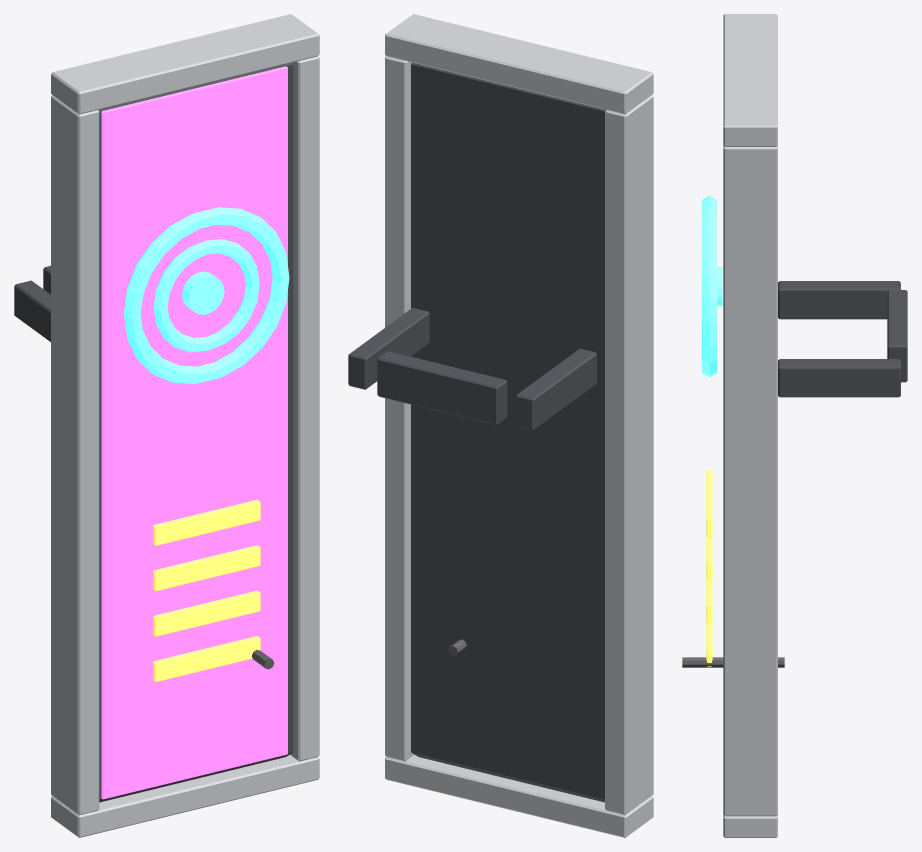
3 renders of one model, left to right at view 1: azimuth 30°, elevation 25°; view 2: azimuth 150°, elevation 25°; view 3: azimuth 270°, elevation 25°, orthographic. The views are drawn at different scales.
Visible parts, largest first — view 1: neon-sign-frame-tall; view 2: neon-sign-frame-tall; view 3: neon-sign-frame-tall.
Boxes of the visible parts, x1,y1,x2,y2 form: neon-sign-frame-tall: [14, 14, 319, 837]; neon-sign-frame-tall: [348, 14, 653, 837]; neon-sign-frame-tall: [682, 14, 907, 837].
Size of the model in its own units: 0.7801 by 2.3 by 0.6599.
